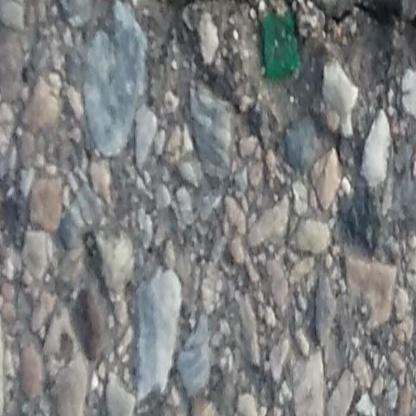Cracks: (144, 0, 416, 47)
